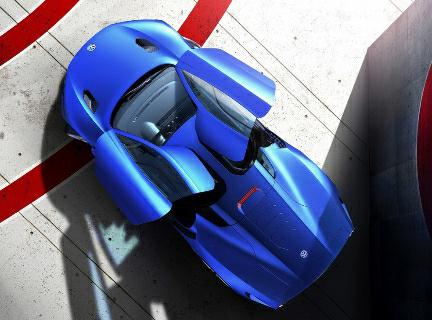大众-XL: (54, 10, 367, 317)
